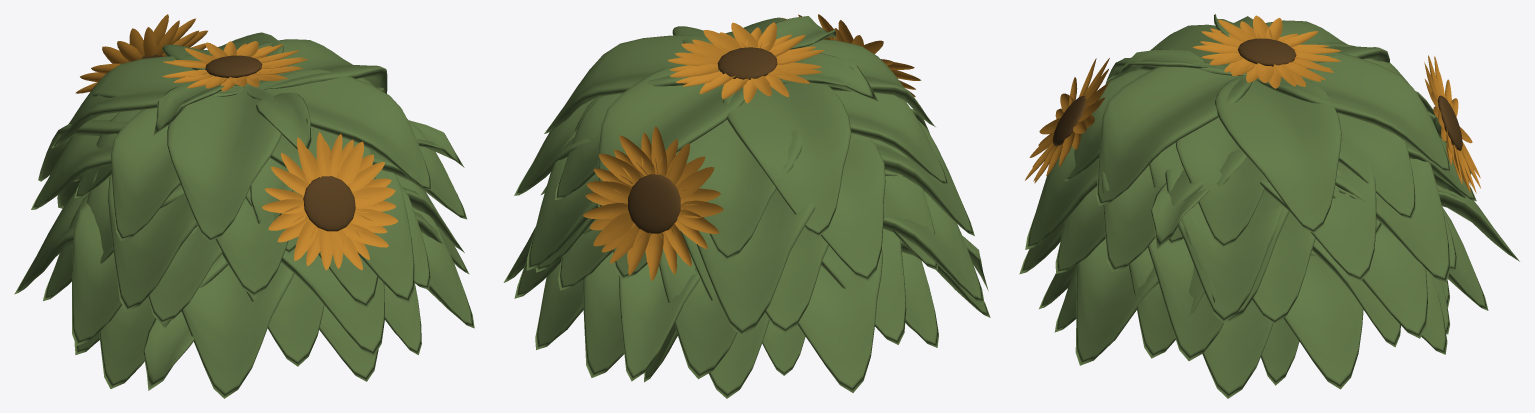
The model's file is bushsunflower.fbx.
3 renders of one model, left to right at view 1: azimuth 30°, elevation 25°; view 2: azimuth 150°, elevation 25°; view 3: azimuth 270°, elevation 25°, orthographic. The views are drawn at different scales.
Visible parts, largest first — view 1: polySurface251; view 2: polySurface251; view 3: polySurface251.
Boxes of the visible parts, bbox=[...] form: polySurface251: bbox=[14, 14, 474, 398]; polySurface251: bbox=[503, 14, 990, 398]; polySurface251: bbox=[1019, 14, 1519, 398].
Size of the model in its own units: 2.36 by 1.45 by 2.53.
